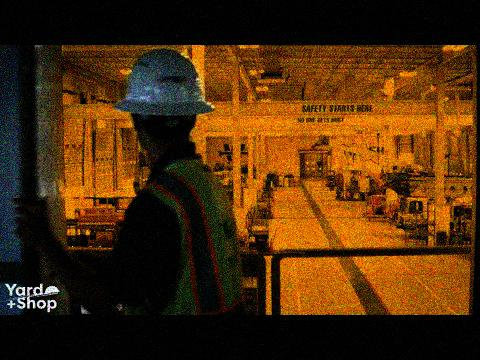helmet: (115, 49, 216, 146)
